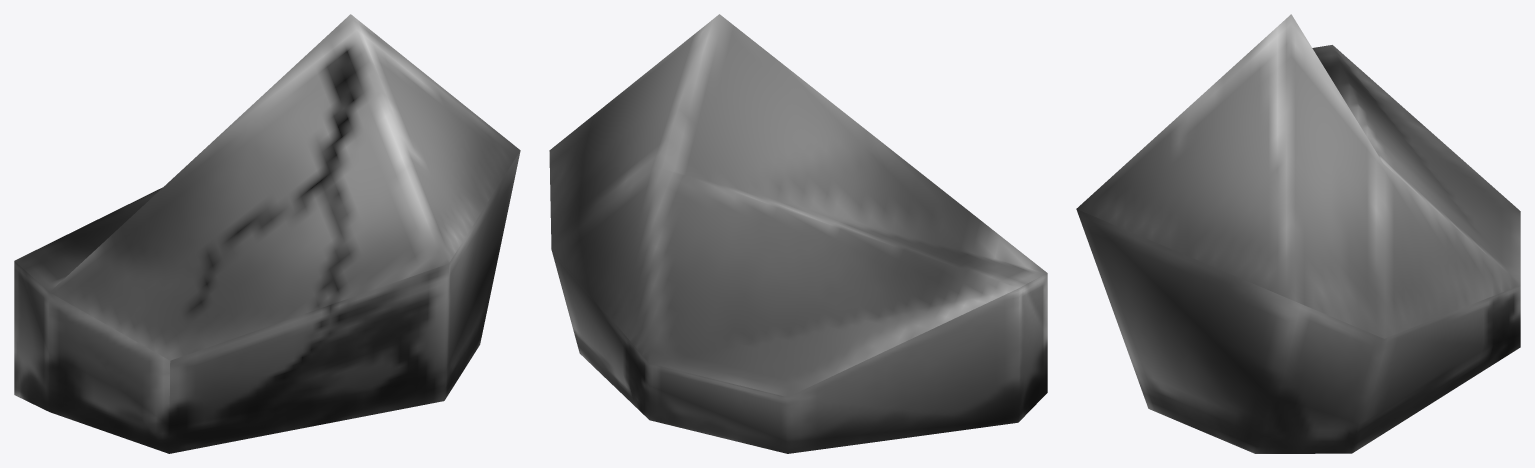
The model's file is SM_Rock_08.fbx.
3 renders of one model, left to right at view 1: azimuth 30°, elevation 25°; view 2: azimuth 150°, elevation 25°; view 3: azimuth 270°, elevation 25°, orthographic. The views are drawn at different scales.
Parts seen in each view (by area): view 1: Roca 7; view 2: Roca 7; view 3: Roca 7.
Part boxes in pixels (<box>): Roca 7: <box>14,14,520,453</box>; Roca 7: <box>549,14,1047,453</box>; Roca 7: <box>1076,14,1520,453</box>.
Size of the model in its own units: 4.01 by 2.72 by 2.89.
1 material, 1 textured.
